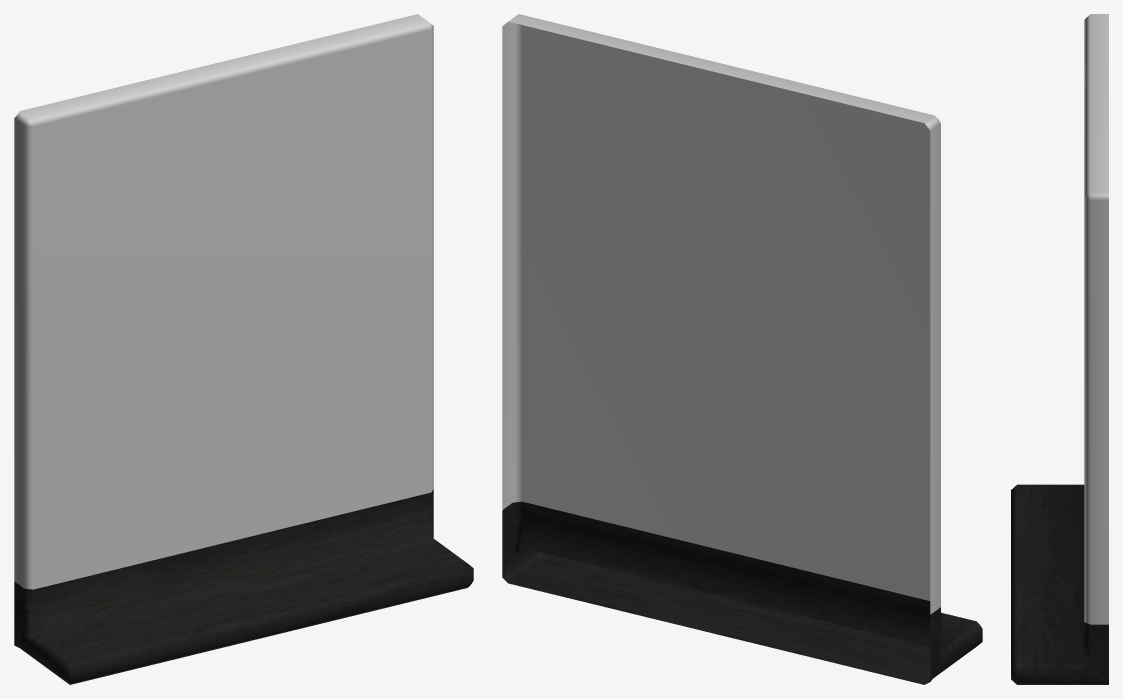
The model's file is bathroom_038.fbx.
3 views of the same model, side by side, from view 1: azimuth 30°, elevation 25°; view 2: azimuth 150°, elevation 25°; view 3: azimuth 270°, elevation 25° (orthographic). The views are drawn at different scales.
Parts seen in each view (by area): view 1: bathroom_038; view 2: bathroom_038; view 3: bathroom_038.
Boxes of the visible parts, box(x1,y1,x2,y2) form: bathroom_038: box(14, 14, 473, 684); bathroom_038: box(502, 14, 982, 684); bathroom_038: box(1011, 14, 1108, 684).
Size of the model in its own units: 72.61 by 16.4 by 91.02.
